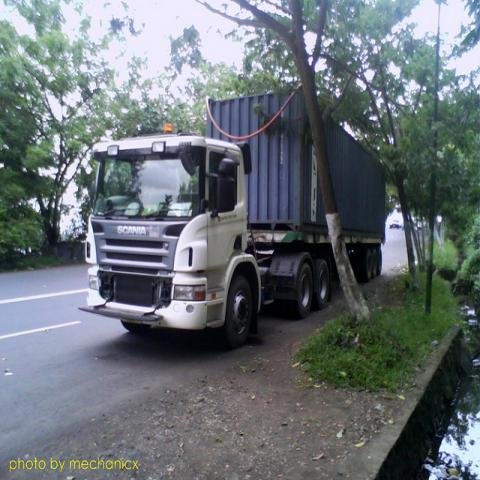truck: (85, 94, 348, 354)
